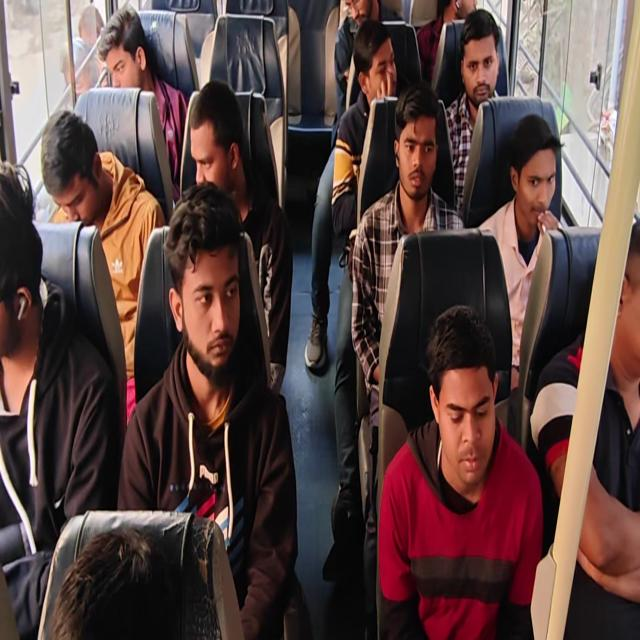person: (55, 524, 224, 640), (165, 190, 248, 386), (423, 303, 498, 487), (41, 112, 114, 230), (2, 152, 33, 390), (507, 111, 567, 230), (182, 89, 250, 187), (387, 78, 439, 206), (92, 8, 162, 102), (606, 207, 640, 388), (344, 8, 398, 100), (458, 6, 506, 102), (437, 1, 484, 24), (346, 0, 378, 28)
